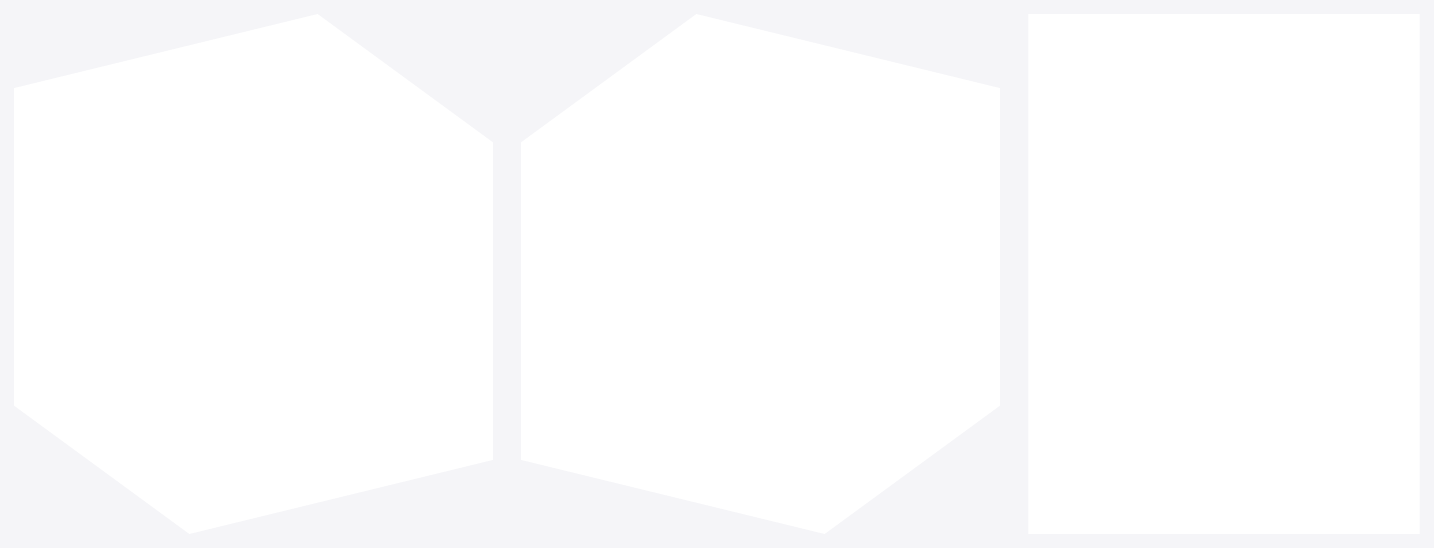
Rendered from generaator.glb.
3 renders of one model, left to right at view 1: azimuth 30°, elevation 25°; view 2: azimuth 150°, elevation 25°; view 3: azimuth 270°, elevation 25°, orthographic. The views are drawn at different scales.
Visible parts, largest first — view 1: valgekast; view 2: valgekast; view 3: valgekast.
Boxes of the visible parts, x1,y1,x2,y2 form: valgekast: [14, 14, 492, 533]; valgekast: [521, 14, 999, 533]; valgekast: [1028, 14, 1419, 533].
Size of the model in its own units: 169 by 169 by 169.
Materials: 15 (7 with a texture image).
